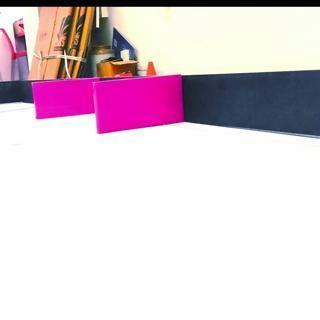xparking: (95, 80, 183, 130), (33, 82, 90, 116)
